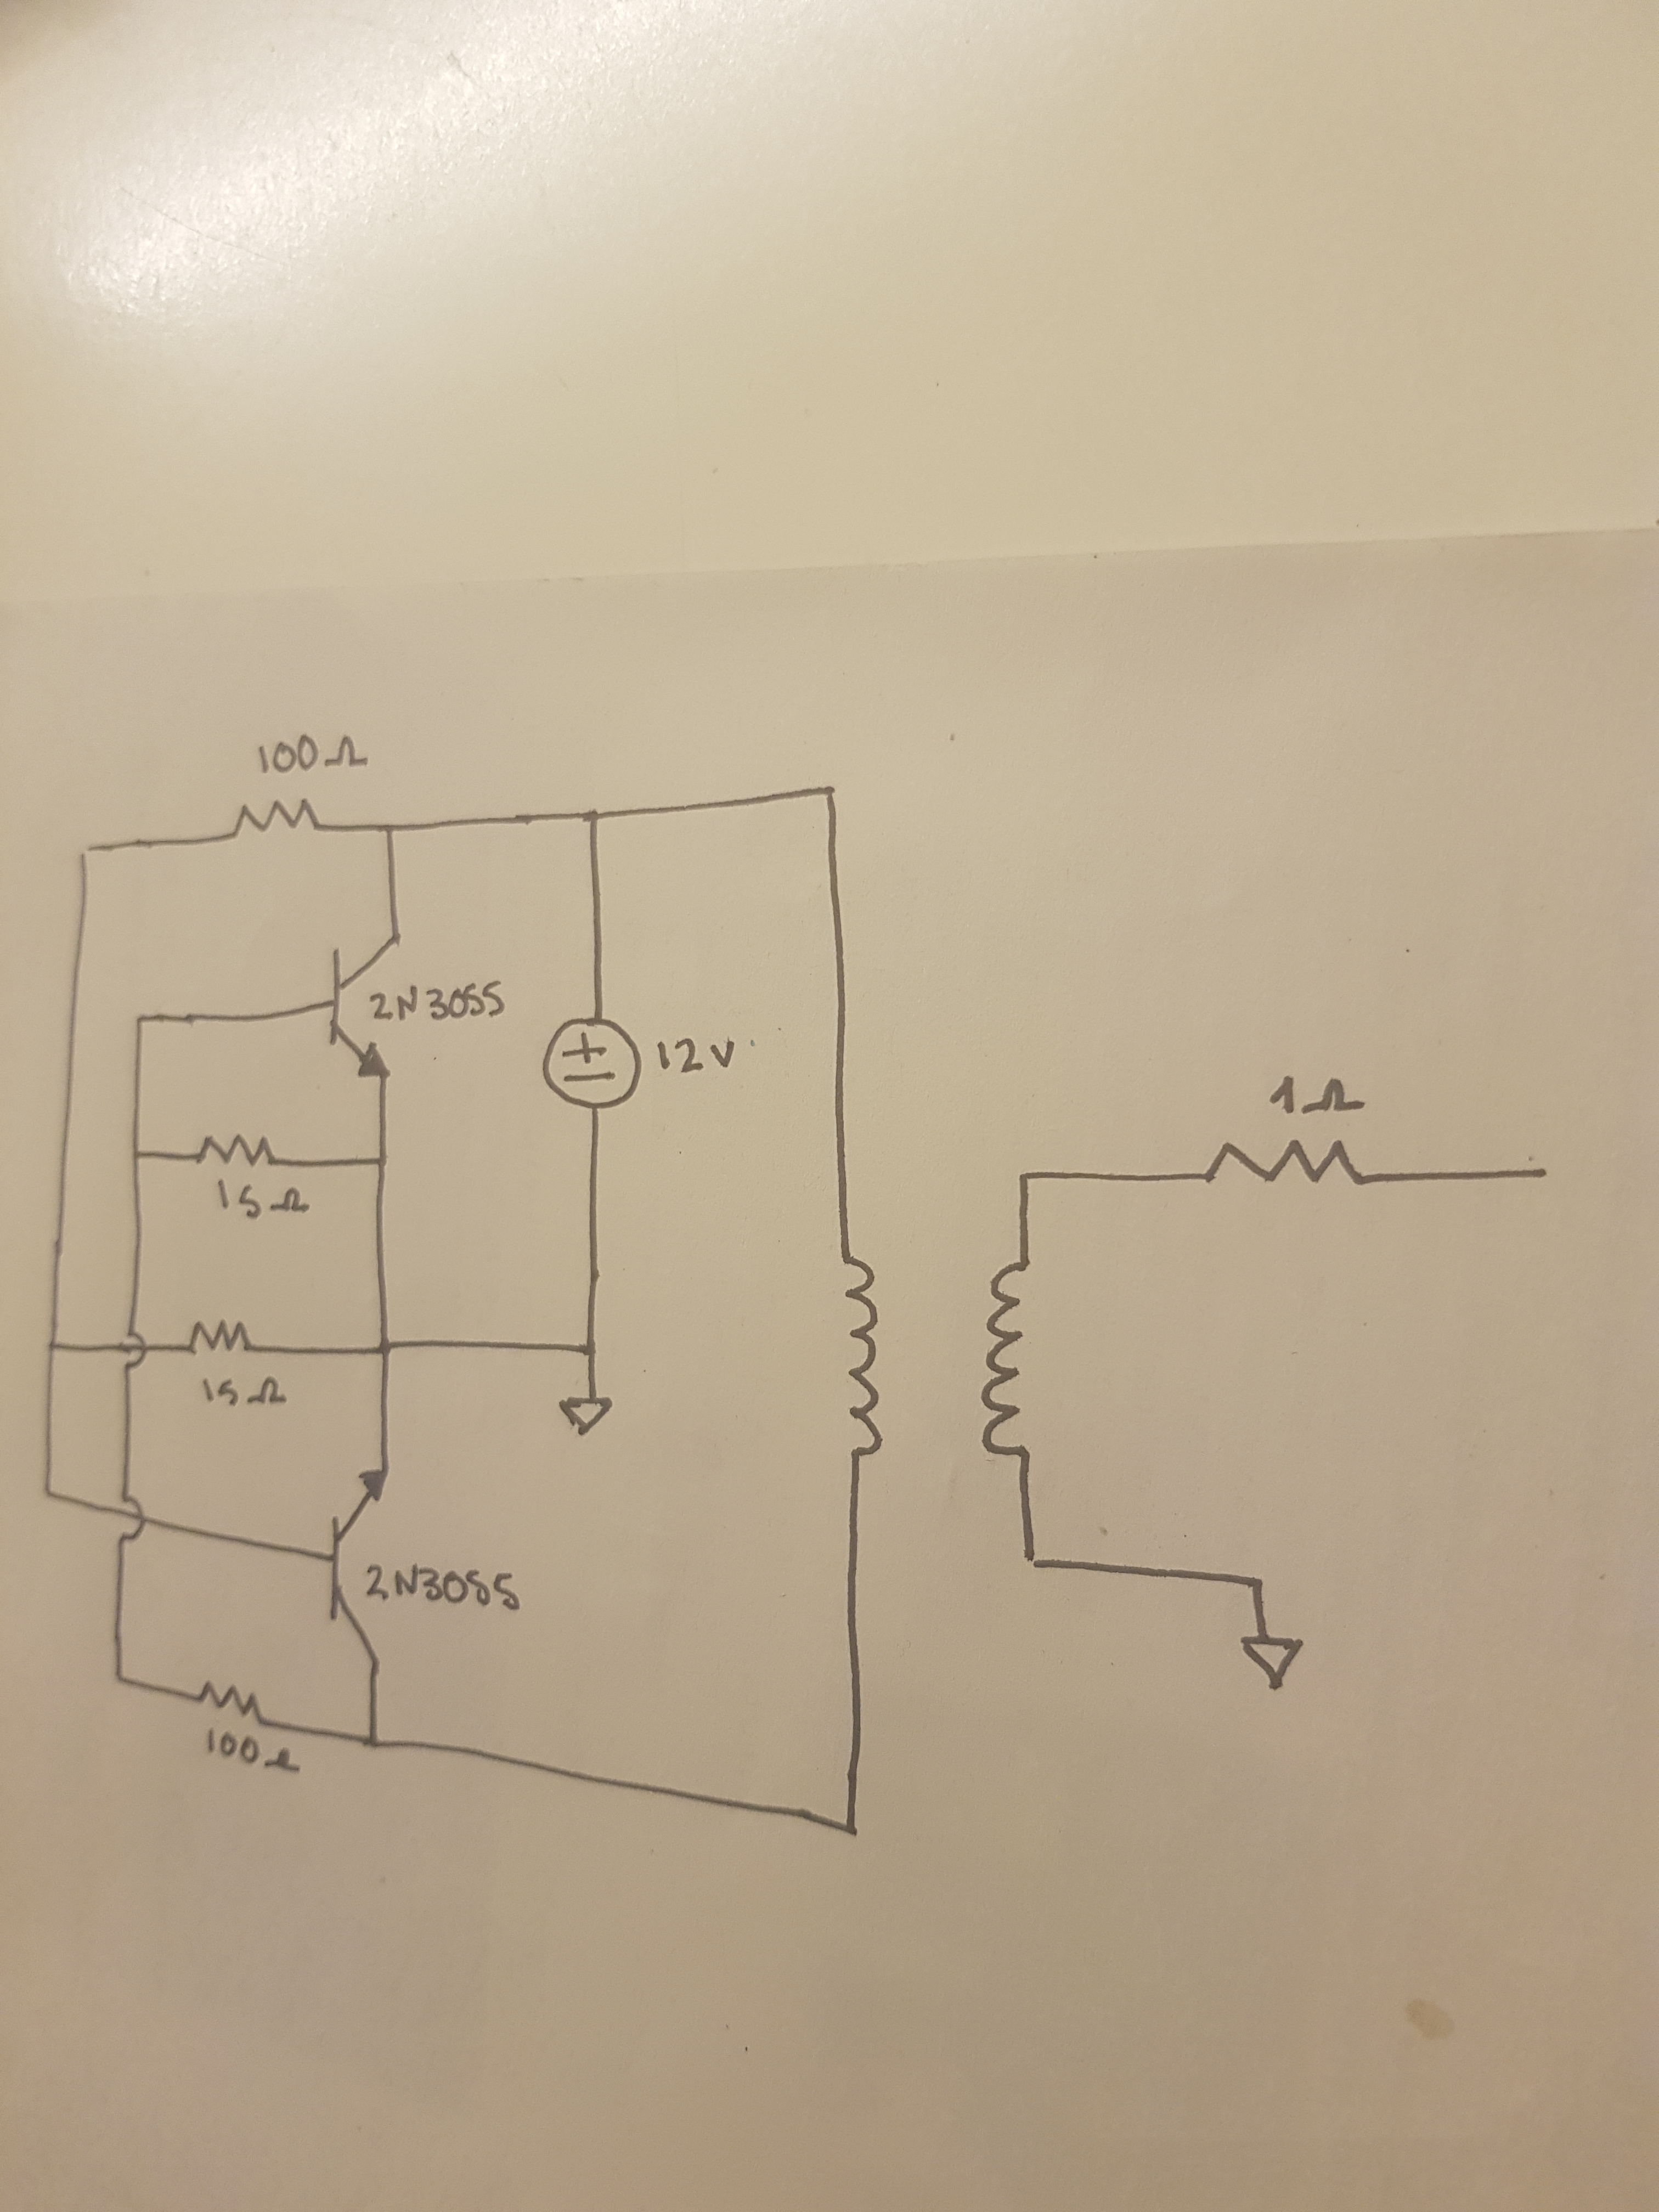crossover: (112, 1493, 152, 1550), (119, 1324, 150, 1379)
gnd: (1237, 1623, 1307, 1696), (556, 1388, 613, 1449)
junction: (807, 775, 856, 817), (830, 1806, 871, 1848), (1011, 1541, 1053, 1580), (575, 798, 615, 834), (1011, 1163, 1047, 1202), (572, 1331, 606, 1367), (122, 1003, 157, 1040), (366, 1334, 401, 1369), (105, 1663, 139, 1696), (357, 1726, 389, 1763), (124, 1139, 157, 1172), (70, 833, 101, 867), (35, 1477, 66, 1512), (37, 1331, 68, 1362), (1239, 1571, 1270, 1599), (366, 1148, 394, 1179), (376, 819, 406, 845)
resistor: (1199, 1132, 1370, 1197), (227, 789, 322, 846), (188, 1127, 284, 1177), (173, 1312, 267, 1360), (197, 1670, 270, 1728)
terminal: (1523, 1157, 1560, 1188)
text: (359, 1554, 525, 1620), (366, 979, 504, 1029), (242, 732, 373, 779), (1263, 1066, 1370, 1118), (653, 1036, 746, 1090), (192, 1733, 298, 1778), (213, 1179, 314, 1217), (193, 1369, 286, 1406)
transformer: (828, 1228, 1040, 1475)
transistor: (319, 1458, 399, 1681), (321, 916, 404, 1090)
voltage.dc: (533, 1007, 650, 1115)
